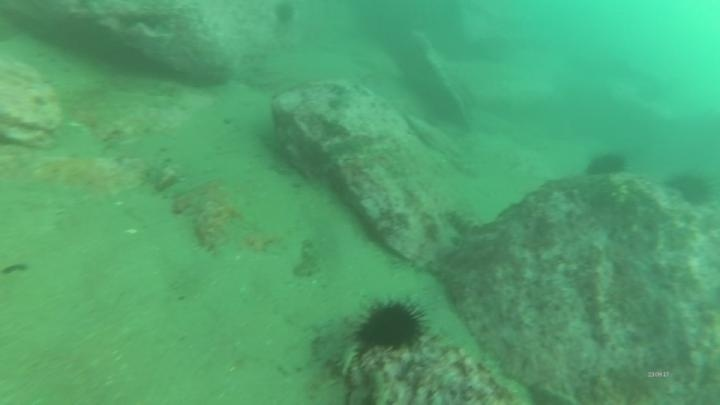echinus: (351, 294, 429, 355), (664, 168, 715, 209), (584, 149, 630, 180), (270, 1, 299, 28)
